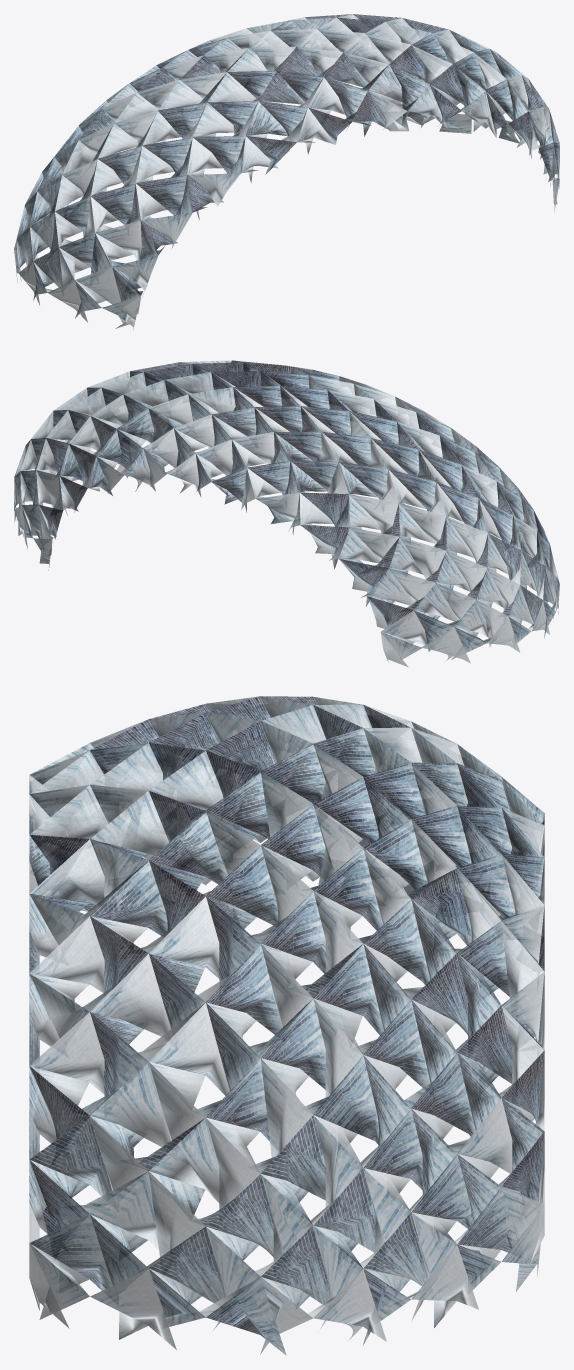
3 views of the same model, one above another, from view 1: azimuth 30°, elevation 25°; view 2: azimuth 150°, elevation 25°; view 3: azimuth 270°, elevation 25° (orthographic). The views are drawn at different scales.
Visible parts, largest first — view 1: [0]; view 2: [0]; view 3: [0].
Boxes of the visible parts, x1,y1,x2,y2 form: [0]: [14, 14, 559, 330]; [0]: [14, 360, 559, 667]; [0]: [29, 696, 544, 1355].
Bounding box in the file's own units: 4.59 × 1.63 × 1.99.
1 material, 1 textured.
